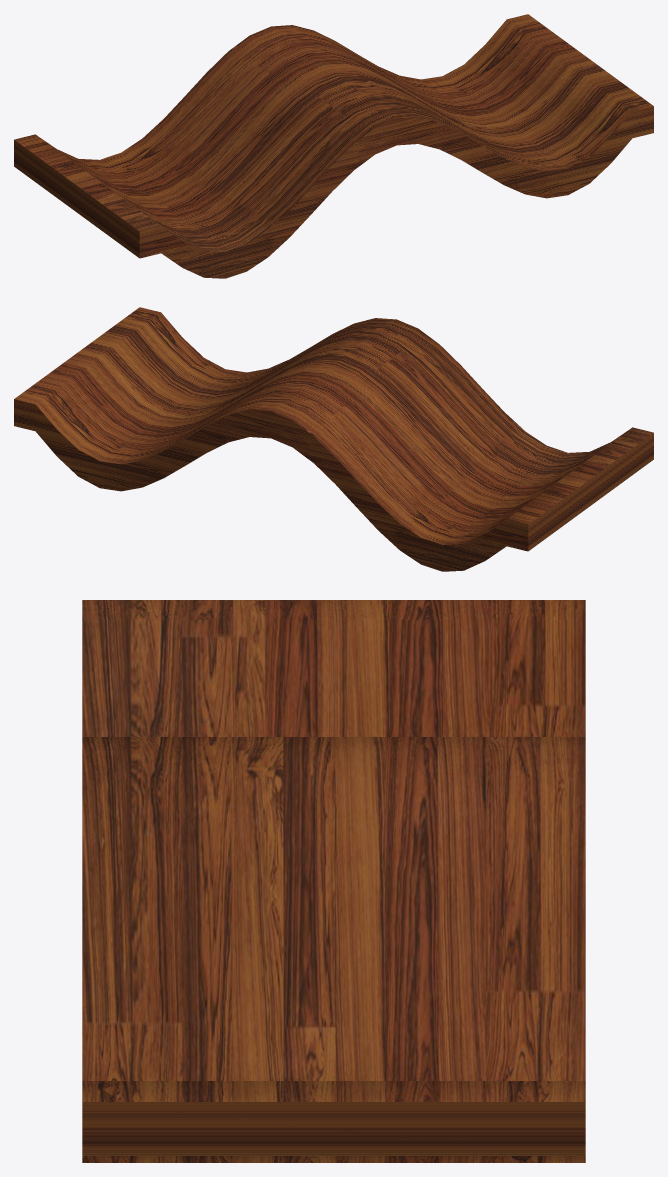
The model's file is WaveWood.fbx.
The picture shows the model from 3 angles, top to bottom: view 1: azimuth 30°, elevation 25°; view 2: azimuth 150°, elevation 25°; view 3: azimuth 270°, elevation 25°; orthographic projection. The views are drawn at different scales.
Visible parts, largest first — view 1: waveWood; view 2: waveWood; view 3: waveWood.
Boxes of the visible parts, bbox=[...] form: waveWood: bbox=[14, 14, 653, 278]; waveWood: bbox=[14, 307, 653, 571]; waveWood: bbox=[82, 600, 585, 1162].
Size of the model in its own units: 200 by 44.04 by 84.71.
